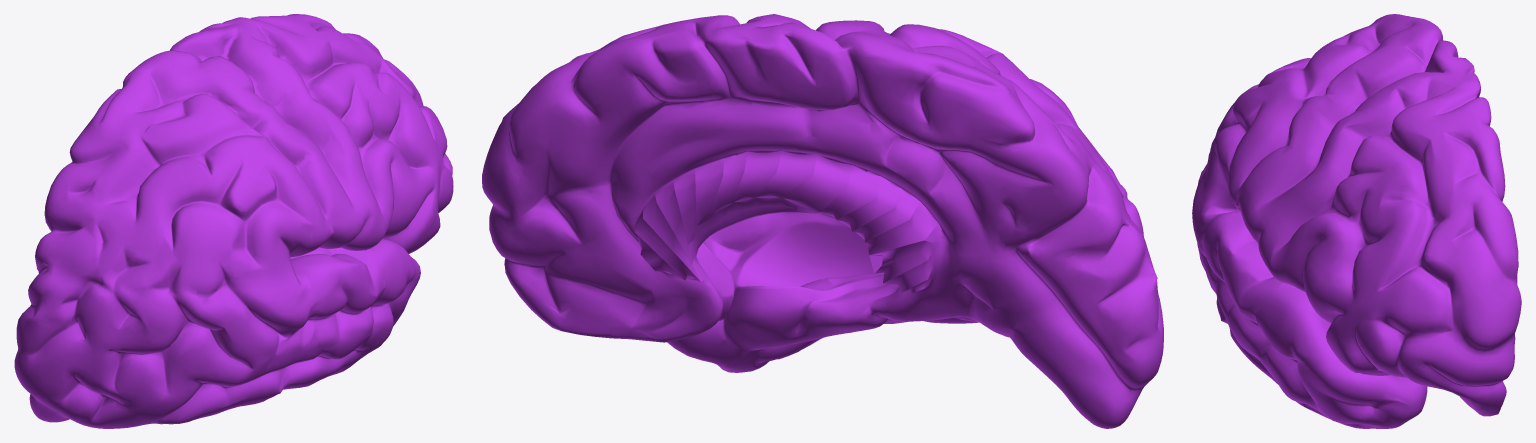
File: right_cerebral_hemisphere.glb
3 views of the same model, side by side, from view 1: azimuth 30°, elevation 25°; view 2: azimuth 150°, elevation 25°; view 3: azimuth 270°, elevation 25° (orthographic). The views are drawn at different scales.
Parts seen in each view (by area): view 1: Brain_Part_06; view 2: Brain_Part_06; view 3: Brain_Part_06.
Part boxes in pixels (x1,y1,x2,y2): Brain_Part_06: (14,14,453,428); Brain_Part_06: (482,14,1163,428); Brain_Part_06: (1192,14,1521,428).
Bounding box in the file's own units: 4.57 × 2.95 × 2.64.
